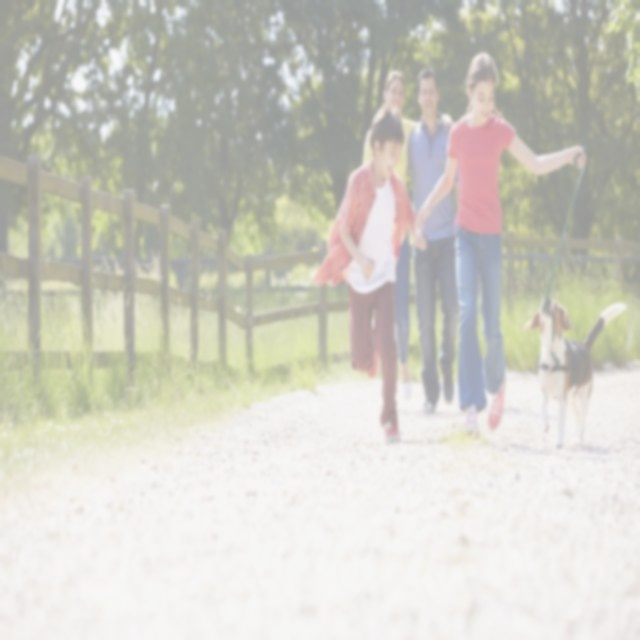pessoa: (413, 49, 588, 438), (311, 96, 428, 448), (362, 70, 456, 402), (402, 66, 461, 418)
